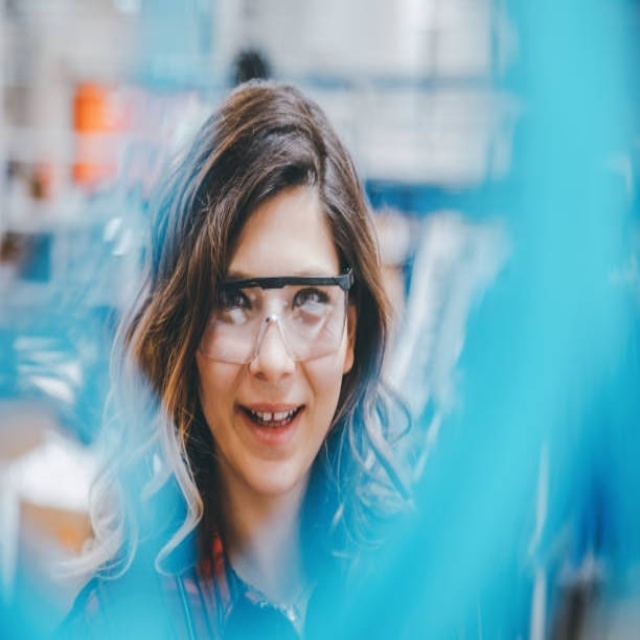Gafas: (198, 269, 355, 368)
Sin_mascara: (224, 386, 315, 478)
